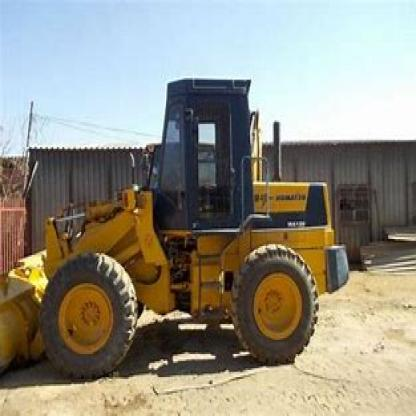bull_dozer/loader/grader: (3, 64, 351, 400)
